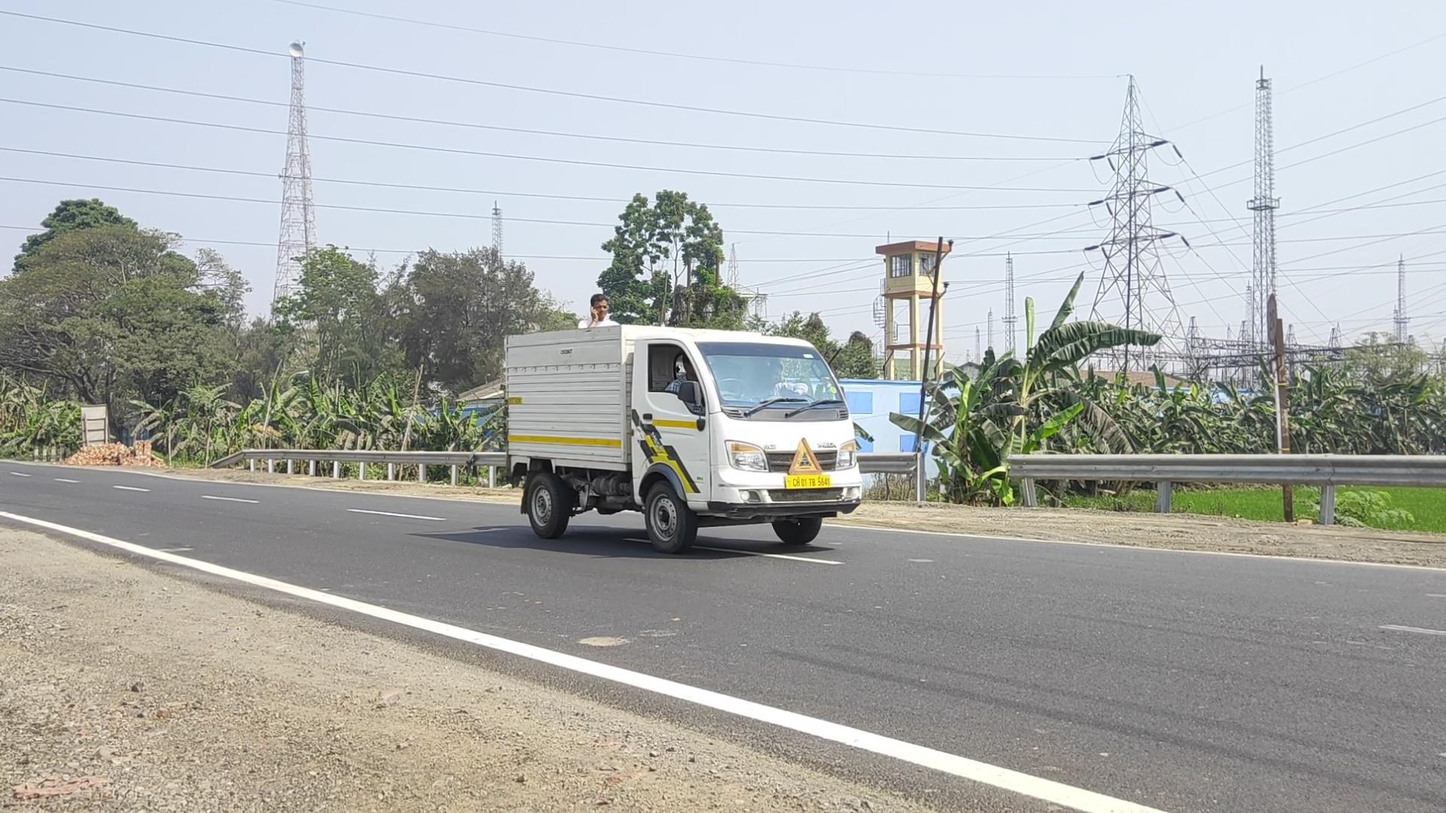van: (502, 294, 862, 555)
